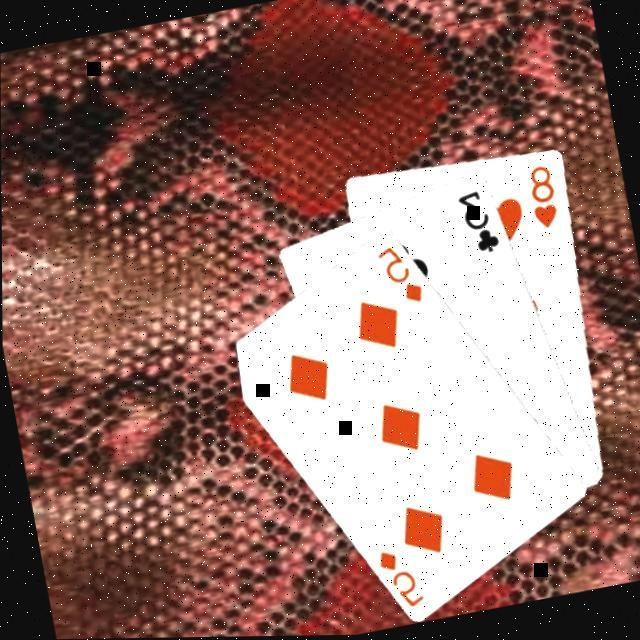3C: (454, 184, 506, 261)
5D: (374, 542, 431, 616), (374, 238, 428, 314)
8H: (523, 161, 566, 235)
